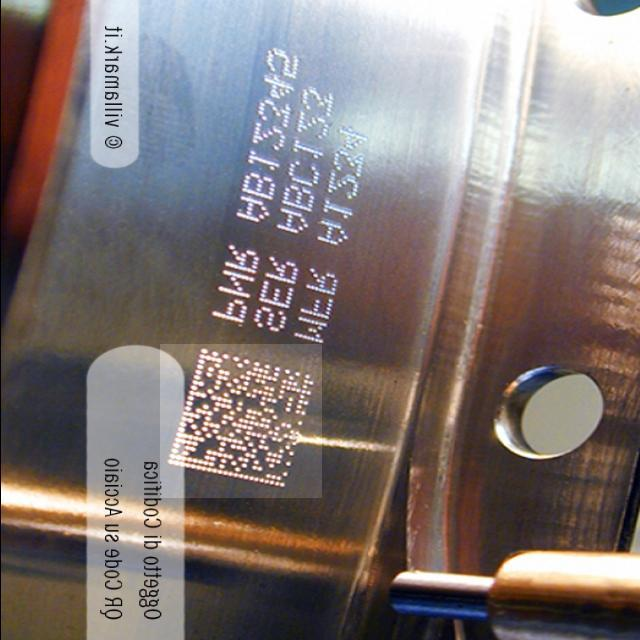Data-Matrix: (159, 344, 321, 498)
